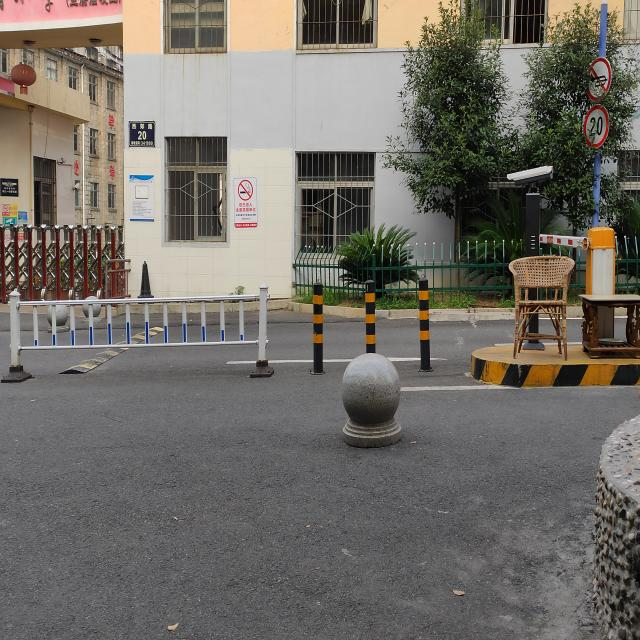reflective_cone: (136, 260, 154, 298)
spherical_roadblock: (341, 352, 404, 446), (47, 302, 69, 332), (82, 295, 103, 323)
warning_column: (308, 282, 326, 374), (417, 276, 433, 373), (363, 280, 377, 354)
